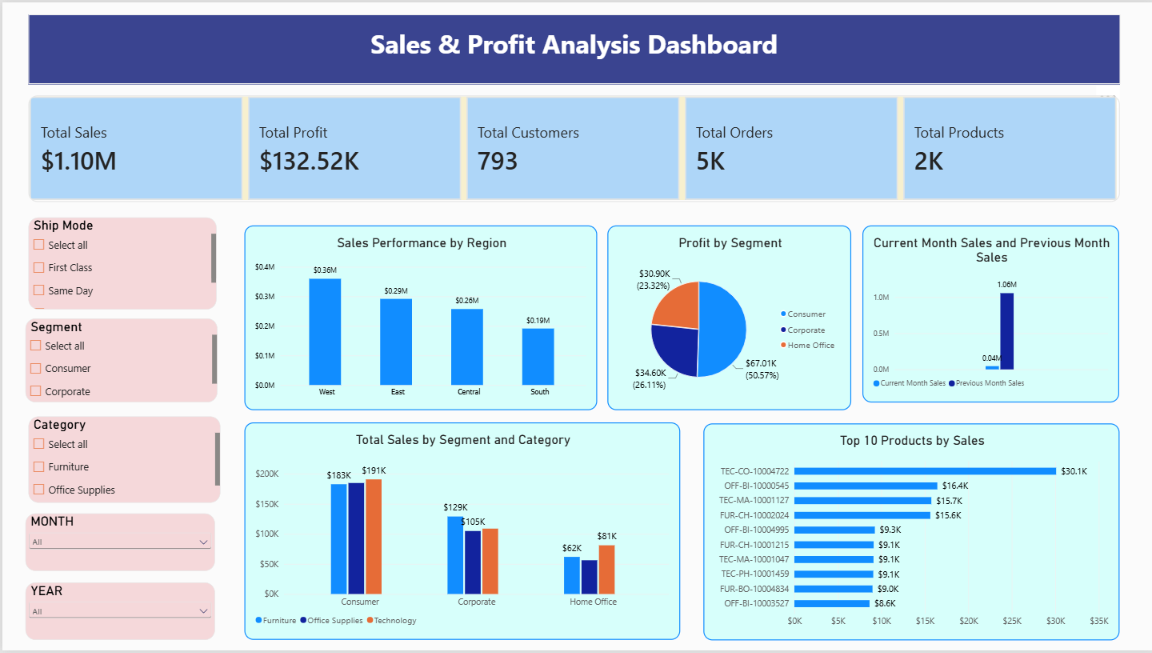

The page's visual inventory and layout, read from the dashboard file:
{"tool":"powerbi","page":{"name":"Overview","canvas":[1920,1080],"ordinal":0},"visuals":[{"type":"textbox","box":[43.6,19.2,1819.2,116.9],"z":0},{"type":"cardVisual","fields":{"Data":["Fact Sales.Total Sales","Fact Sales.Total Profit","Fact Sales.Total Customers","Fact Sales.Total Orders","Fact Sales.Total Products"]},"box":[43.6,155.2,1819.2,177.9],"z":1000},{"type":"slicer","fields":{"Values":["Dim Calender.MONTH"]},"box":[38.3,851.7,316,96],"z":6000},{"type":"slicer","fields":{"Values":["Dim Calender.YEAR"]},"box":[38.3,966.7,316,96],"z":7000},{"type":"slicer","fields":{"Values":["Dim Product.Category"]},"box":[44,690,320,144],"z":8000},{"type":"slicer","fields":{"Values":["Dim Customer.Segment"]},"box":[38,526,320,140],"z":9000},{"type":"slicer","fields":{"Values":["Fact Sales.Ship Mode"]},"box":[43.3,358.3,313.3,153.3],"z":10000},{"type":"clusteredColumnChart","title":"Sales Performance by Region","fields":{"Y":["Fact Sales.Total Sales"],"Category":["Dim Customer.Region"]},"box":[404,372,588,308],"z":11000},{"type":"pieChart","title":"Profit by Segment","fields":{"Category":["Dim Customer.Segment"],"Y":["Fact Sales.Total Profit"]},"box":[1008.3,371.7,406.7,308.3],"z":12000},{"type":"clusteredColumnChart","fields":{"Y":["Fact Sales.Current Month Sales","Fact Sales.Previous Month Sales"]},"box":[1433.3,371.7,428.3,295],"z":13000},{"type":"clusteredColumnChart","fields":{"Category":["Dim Customer.Segment"],"Series":["Dim Product.Category"],"Y":["Fact Sales.Total Sales"]},"box":[404,700,726,362],"z":14000},{"type":"clusteredBarChart","title":"Top 10 Products by Sales","fields":{"Category":["Dim Product.Product ID"],"Y":["Fact Sales.Total Sales"]},"box":[1168.3,701.7,693.3,361.7],"z":15000}]}

Visuals, with their boxes in screenshot pixels (x1, y1, x2, y2), scaled from the page's 1920x1080 canvas onto the 1152x653 screenshot:
textbox: detection(26, 12, 1118, 82)
cardVisual - Fact Sales.Total Sales x Fact Sales.Total Profit: detection(26, 94, 1118, 201)
slicer - Dim Calender.MONTH: detection(23, 515, 213, 573)
slicer - Dim Calender.YEAR: detection(23, 584, 213, 643)
slicer - Dim Product.Category: detection(26, 417, 218, 504)
slicer - Dim Customer.Segment: detection(23, 318, 215, 403)
slicer - Fact Sales.Ship Mode: detection(26, 217, 214, 309)
"Sales Performance by Region" clusteredColumnChart: detection(242, 225, 595, 411)
"Profit by Segment" pieChart: detection(605, 225, 849, 411)
clusteredColumnChart - Fact Sales.Current Month Sales x Fact Sales.Previous Month Sales: detection(860, 225, 1117, 403)
clusteredColumnChart - Dim Customer.Segment x Dim Product.Category: detection(242, 423, 678, 642)
"Top 10 Products by Sales" clusteredBarChart: detection(701, 424, 1117, 643)
